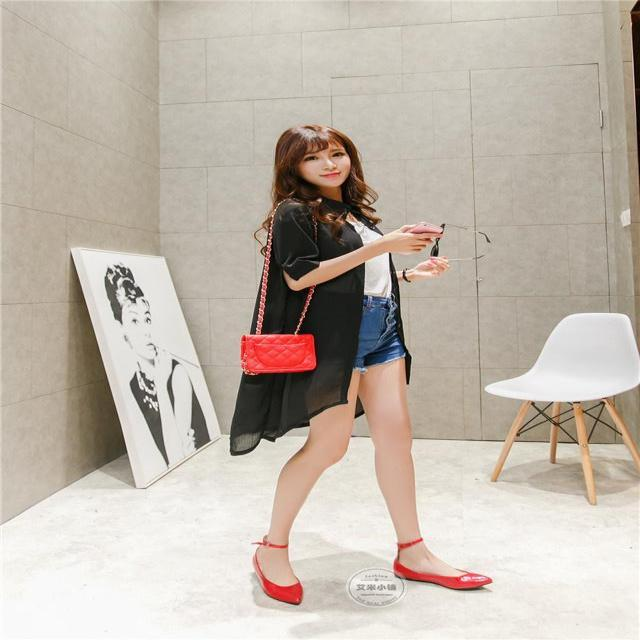long sleeve outwear: (231, 190, 361, 455)
shorts: (289, 294, 407, 369)
